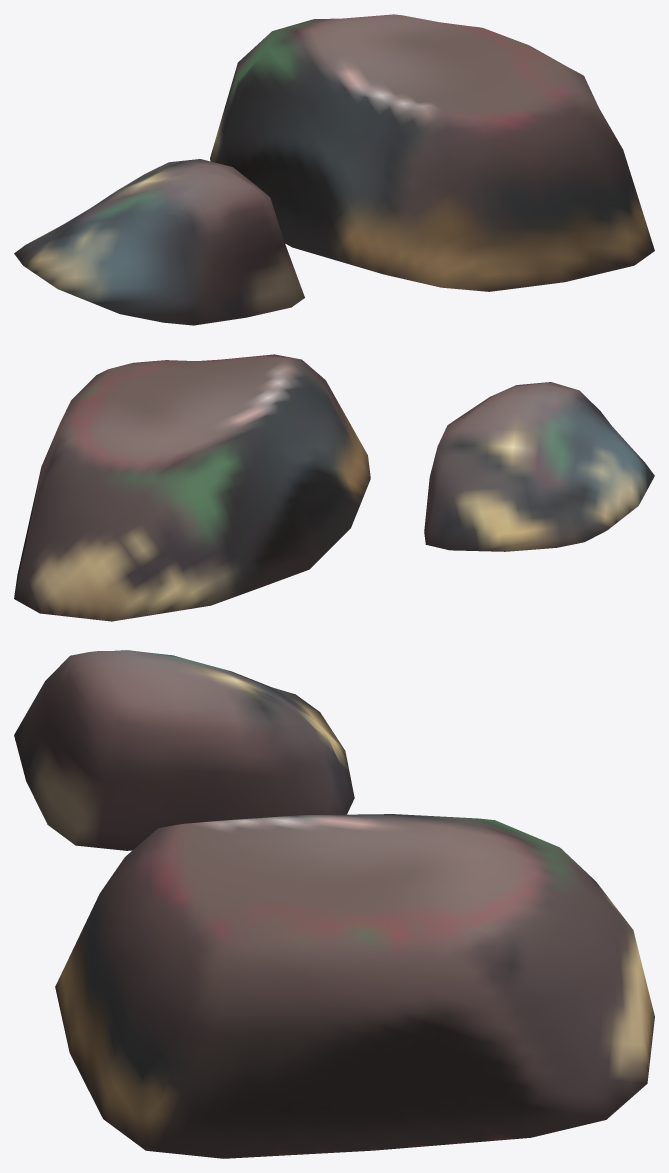
Rendered from Beach_Rocks.glb.
The picture shows the model from 3 angles, top to bottom: view 1: azimuth 30°, elevation 25°; view 2: azimuth 150°, elevation 25°; view 3: azimuth 270°, elevation 25°; orthographic projection. The views are drawn at different scales.
Visible parts, largest first — view 1: Object_2.031; view 2: Object_2.031; view 3: Object_2.031.
Boxes of the visible parts, x1,y1,x2,y2 form: Object_2.031: (14,14,654,325); Object_2.031: (14,354,654,621); Object_2.031: (14,650,654,1158).
Bounding box in the file's own units: 9.8 × 2.95 × 7.54.
1 material, 1 textured.
